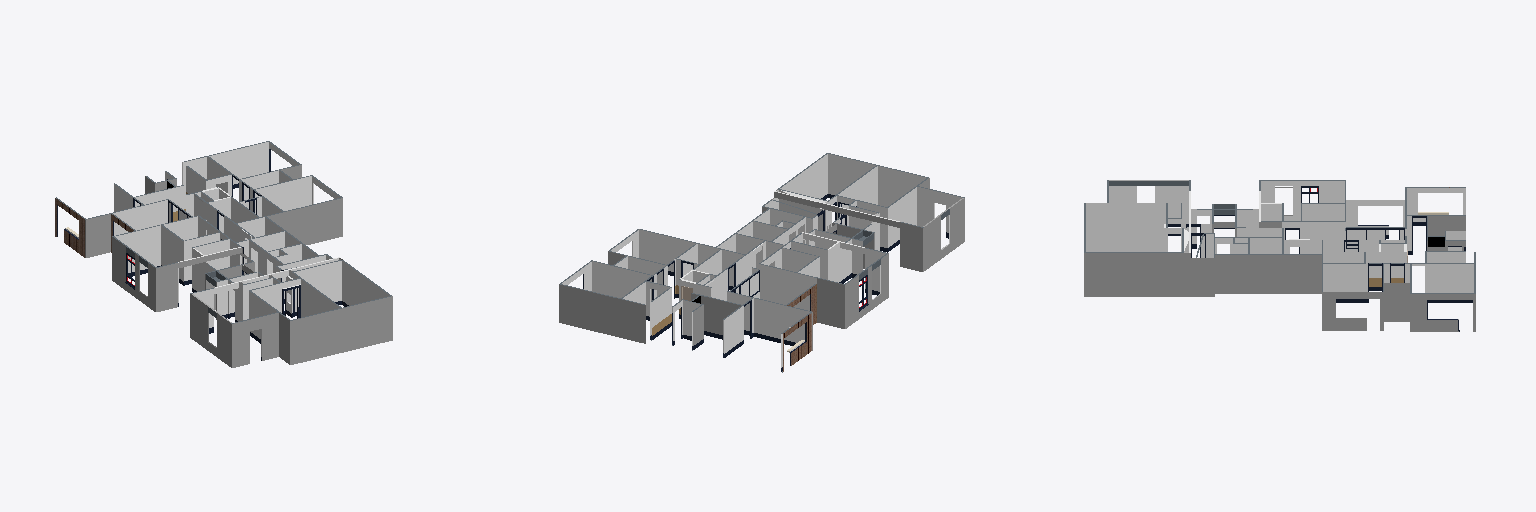
3 renders of one model, left to right at view 1: azimuth 30°, elevation 25°; view 2: azimuth 150°, elevation 25°; view 3: azimuth 270°, elevation 25°, orthographic.
Parts seen in each view (by area): view 1: -Visio_284_East_Wing-; view 2: -Visio_284_East_Wing-; view 3: -Visio_284_East_Wing-.
Boxes of the visible parts, x1=… form: -Visio_284_East_Wing-: x1=55, y1=141, x2=392, y2=367; -Visio_284_East_Wing-: x1=559, y1=153, x2=964, y2=372; -Visio_284_East_Wing-: x1=1084, y1=180, x2=1475, y2=331.
Size of the model in its own units: 15.64 by 2.99 by 23.9.
11 materials, 1 textured.